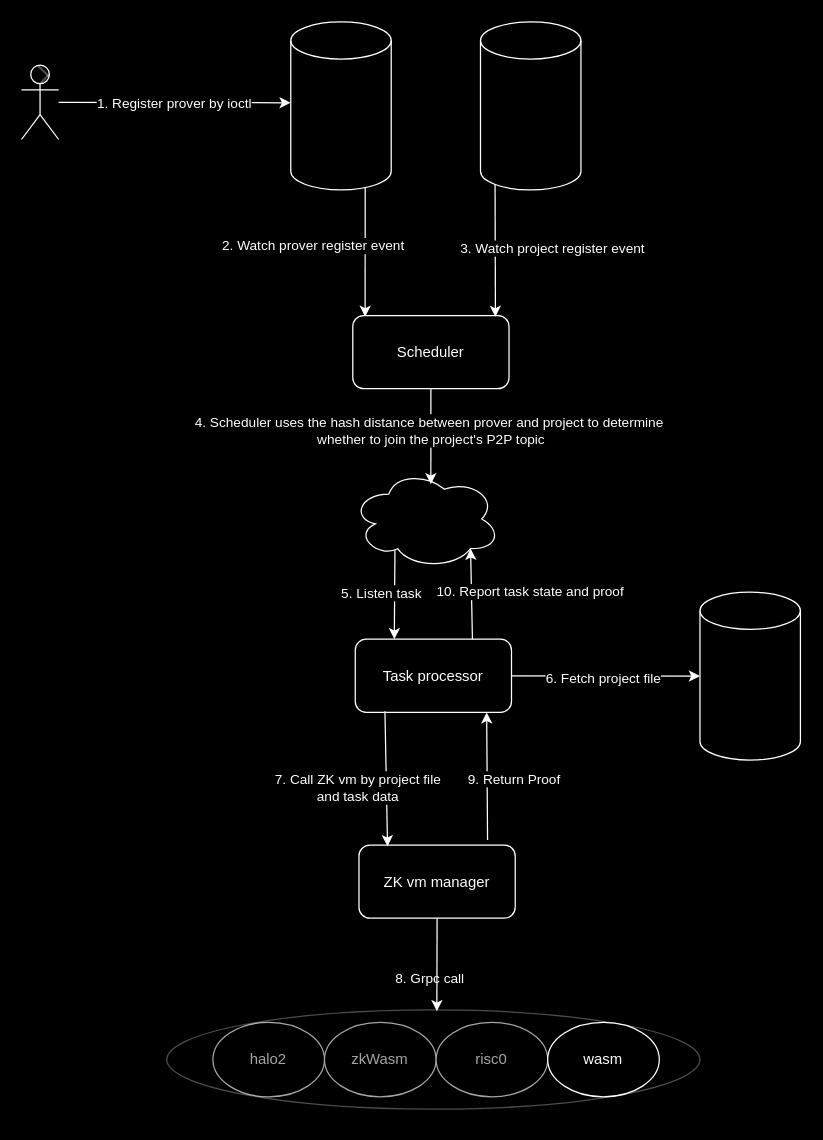
Image size: 823x1140. Some labels were removed from this diagram. Each missing label, with the centre of its shape:
"IPFS" belongs at (x=749, y=675).
"P2P network" belongs at (x=425, y=518).
"Project Registrar Contract" belongs at (x=530, y=105).
"Prover Registrar Contract" belongs at (x=340, y=105).
